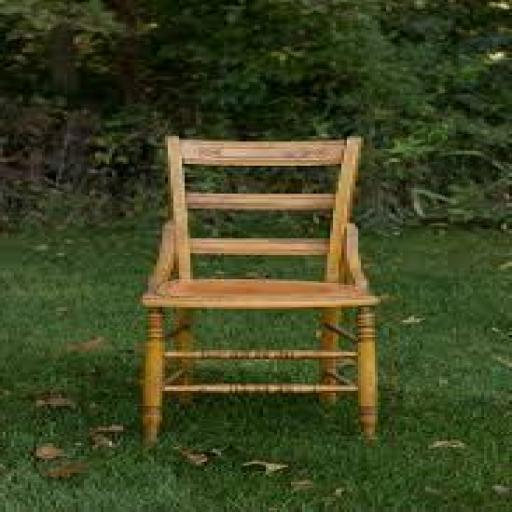chair: (138, 131, 388, 457)
